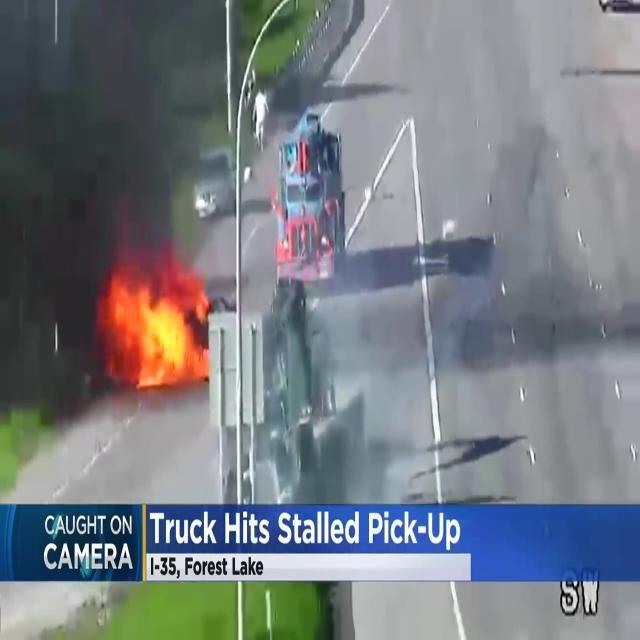Fire: (96, 268, 212, 398)
Smoke: (0, 0, 219, 287), (466, 0, 620, 338), (298, 272, 464, 466)
